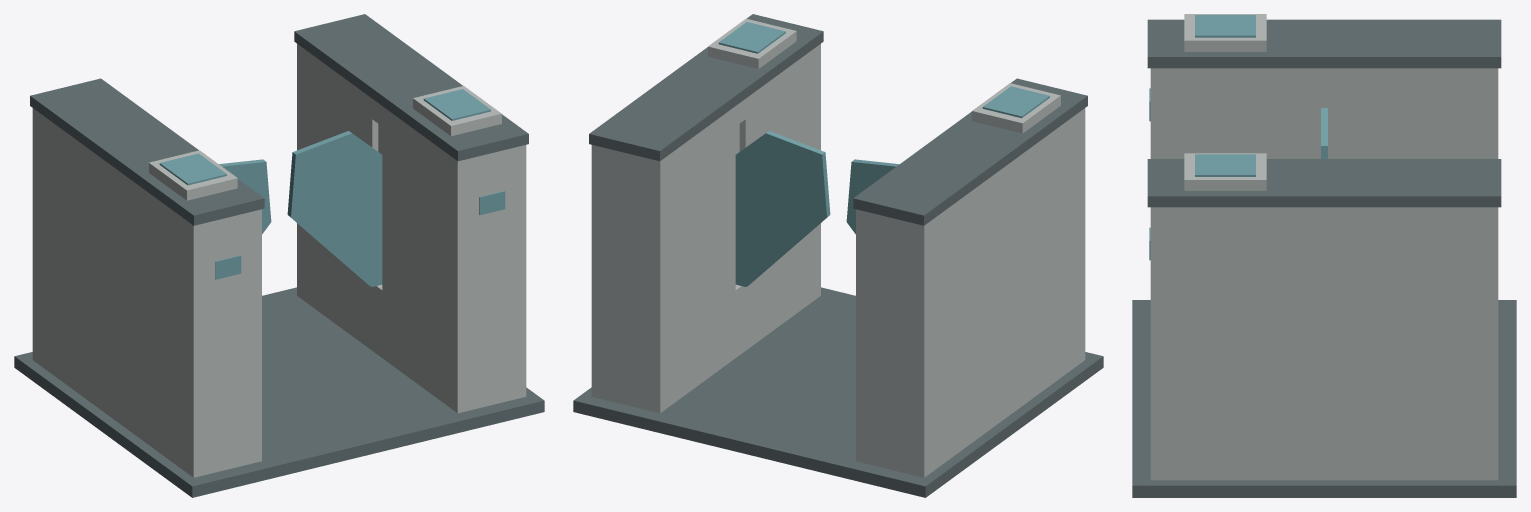
3 renders of one model, left to right at view 1: azimuth 30°, elevation 25°; view 2: azimuth 150°, elevation 25°; view 3: azimuth 270°, elevation 25°, orthographic. The views are drawn at different scales.
Parts seen in each view (by area): view 1: WholeSlottedHollowCase_-1, WholeSlottedHollowCase_1, WholeSharedLaneMountingPlinth, WholeRaisedCaseTopCap_-1, WholeRaisedCaseTopCap_1, WholePartExtendedFlap_1, WholeReaderHousing_-1, WholeReaderHousing_1, WholePartExtendedFlap_-1, WholeOpaqueReaderFace_-1, WholeOpaqueReaderFace_1; view 2: WholeSlottedHollowCase_-1, WholeSlottedHollowCase_1, WholeSharedLaneMountingPlinth, WholeRaisedCaseTopCap_1, WholeRaisedCaseTopCap_-1, WholePartExtendedFlap_1, WholeReaderHousing_1, WholeReaderHousing_-1, WholePartExtendedFlap_-1, WholeOpaqueReaderFace_-1, WholeOpaqueReaderFace_1; view 3: WholeSlottedHollowCase_1, WholeSlottedHollowCase_-1, WholeRaisedCaseTopCap_-1, WholeRaisedCaseTopCap_1, WholeSharedLaneMountingPlinth, WholeReaderHousing_-1, WholeReaderHousing_1, WholeOpaqueReaderFace_-1, WholeOpaqueReaderFace_1.
Part boxes in pixels (box(x1,y1,x2,y2)): WholeSlottedHollowCase_-1: box(32, 108, 261, 477); WholeSlottedHollowCase_1: box(297, 44, 526, 413); WholeSharedLaneMountingPlinth: box(14, 287, 544, 497); WholeRaisedCaseTopCap_-1: box(30, 78, 264, 225); WholeRaisedCaseTopCap_1: box(294, 14, 528, 161); WholePartExtendedFlap_1: box(287, 131, 382, 286); WholeReaderHousing_-1: box(149, 150, 237, 200); WholeReaderHousing_1: box(413, 86, 501, 136); WholePartExtendedFlap_-1: box(219, 159, 271, 234); WholeOpaqueReaderFace_-1: box(159, 153, 226, 185); WholeOpaqueReaderFace_1: box(423, 89, 490, 120); WholeSlottedHollowCase_-1: box(856, 108, 1085, 477); WholeSlottedHollowCase_1: box(591, 44, 820, 413); WholeSharedLaneMountingPlinth: box(573, 287, 1103, 497); WholeRaisedCaseTopCap_1: box(589, 14, 823, 161); WholeRaisedCaseTopCap_-1: box(853, 78, 1087, 225); WholePartExtendedFlap_1: box(735, 131, 830, 286); WholeReaderHousing_1: box(708, 18, 796, 68); WholeReaderHousing_-1: box(972, 83, 1060, 133); WholePartExtendedFlap_-1: box(846, 159, 899, 234); WholeOpaqueReaderFace_-1: box(982, 86, 1049, 118); WholeOpaqueReaderFace_1: box(718, 22, 785, 53); WholeSlottedHollowCase_1: box(1150, 207, 1498, 480); WholeSlottedHollowCase_-1: box(1150, 68, 1498, 158); WholeRaisedCaseTopCap_-1: box(1147, 19, 1501, 68); WholeRaisedCaseTopCap_1: box(1147, 159, 1501, 207); WholeSharedLaneMountingPlinth: box(1132, 300, 1516, 497); WholeReaderHousing_-1: box(1184, 14, 1266, 51); WholeReaderHousing_1: box(1184, 153, 1266, 190); WholeOpaqueReaderFace_-1: box(1195, 15, 1255, 37); WholeOpaqueReaderFace_1: box(1195, 154, 1255, 176).
Size of the model in its own units: 1.44 by 1.12 by 1.26.
